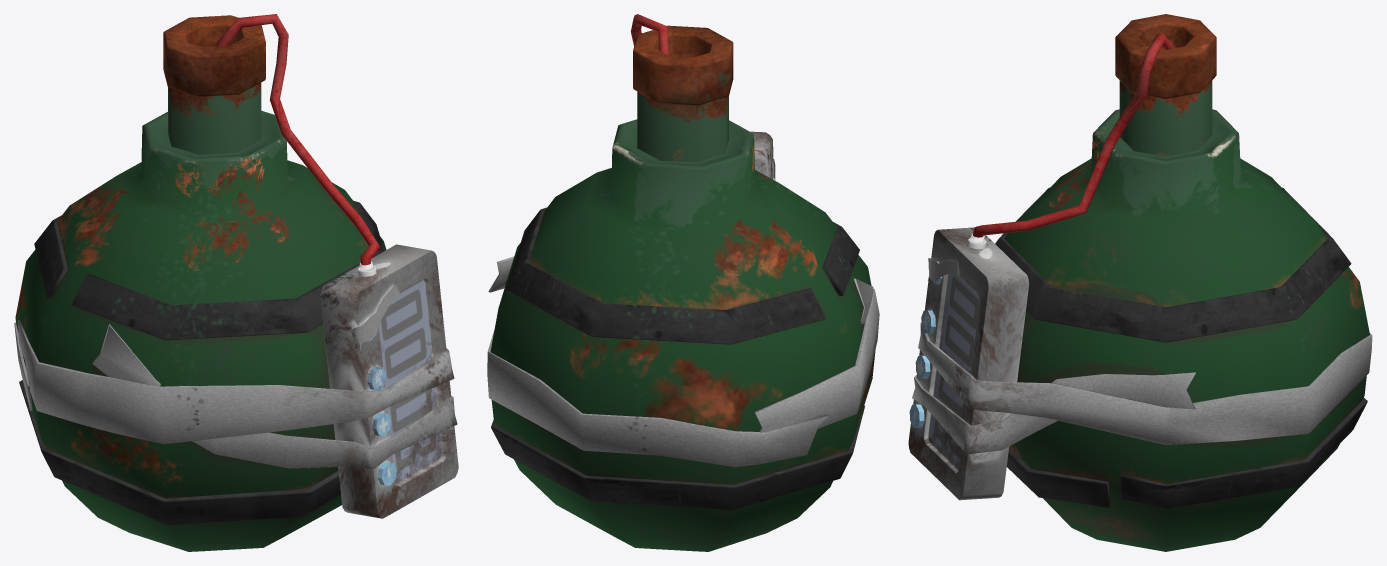
The model's file is Stickybomb .fbx.
The picture shows the model from 3 angles, left to right: view 1: azimuth 30°, elevation 25°; view 2: azimuth 150°, elevation 25°; view 3: azimuth 270°, elevation 25°; orthographic projection.
Parts seen in each view (by area): view 1: grenade, tape, magnetic tape, tape.001, grenade.001, wire, Plane.002; view 2: grenade, tape, magnetic tape, grenade.001, tape.001, wire; view 3: grenade, tape, magnetic tape, grenade.001, tape.001, wire.
Boxes of the visible parts, x1,y1,x2,y2 form: grenade: [15, 15, 458, 551]; tape: [14, 320, 454, 444]; magnetic tape: [34, 200, 384, 340]; tape.001: [92, 324, 457, 469]; grenade.001: [19, 380, 340, 525]; wire: [217, 14, 380, 265]; Plane.002: [351, 284, 399, 352]; grenade: [490, 25, 875, 551]; tape: [487, 288, 879, 467]; magnetic tape: [506, 207, 859, 344]; grenade.001: [491, 405, 864, 510]; tape.001: [488, 256, 873, 324]; wire: [630, 14, 668, 55]; grenade: [908, 14, 1369, 551]; tape: [918, 322, 1372, 445]; magnetic tape: [995, 187, 1351, 342]; grenade.001: [1006, 397, 1367, 509]; tape.001: [912, 372, 1195, 454]; wire: [973, 33, 1174, 237].
Size of the model in its own units: 13.65 by 18.36 by 15.08.
Materials: 1 (1 with a texture image).
